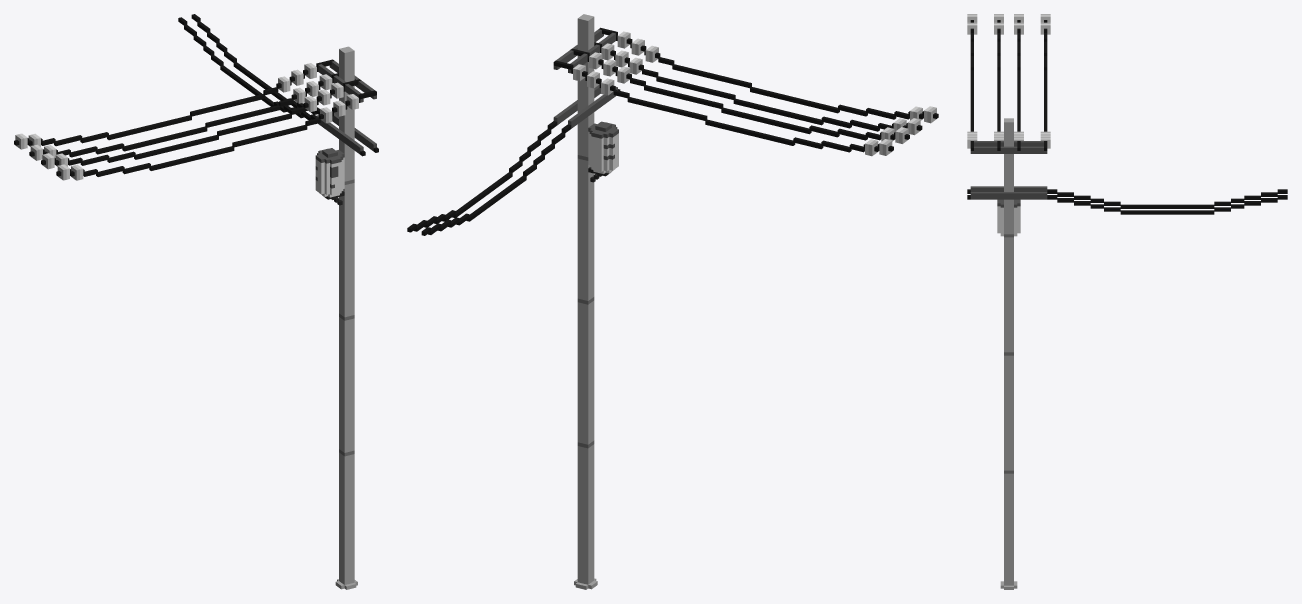
The model's file is poleTen.glb.
The picture shows the model from 3 angles, left to right: view 1: azimuth 30°, elevation 25°; view 2: azimuth 150°, elevation 25°; view 3: azimuth 270°, elevation 25°; orthographic projection. The views are drawn at different scales.
Parts seen in each view (by area): view 1: ObjObject; view 2: ObjObject; view 3: ObjObject.
Part boxes in pixels (x1,y1,x2,y2): ObjObject: [14, 14, 378, 589]; ObjObject: [407, 14, 938, 589]; ObjObject: [967, 14, 1287, 589].
Bounding box in the file's own units: 9.6 × 15.4 × 9.6.
1 material, 1 textured.
